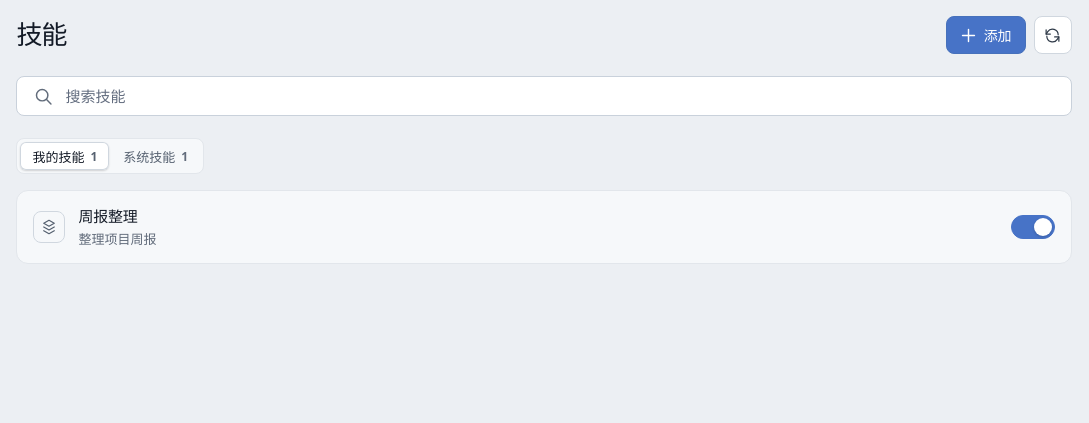
技能管理页 › 搜索框可清空关键词，并保留系统分类且不打开详情
expect the text "周报整理" is shown: met, box [78,206,138,226]
Click the tab "系统技能 1" at (156, 156), box [111,142,200,170]
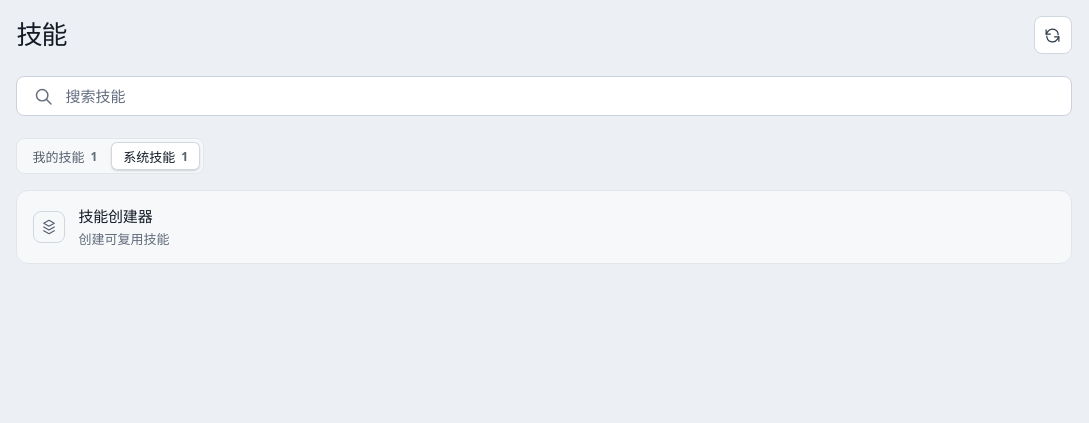
Type "无匹配" into the search field labelled "搜索技能" at (542, 96), box [65,77,1019,115]
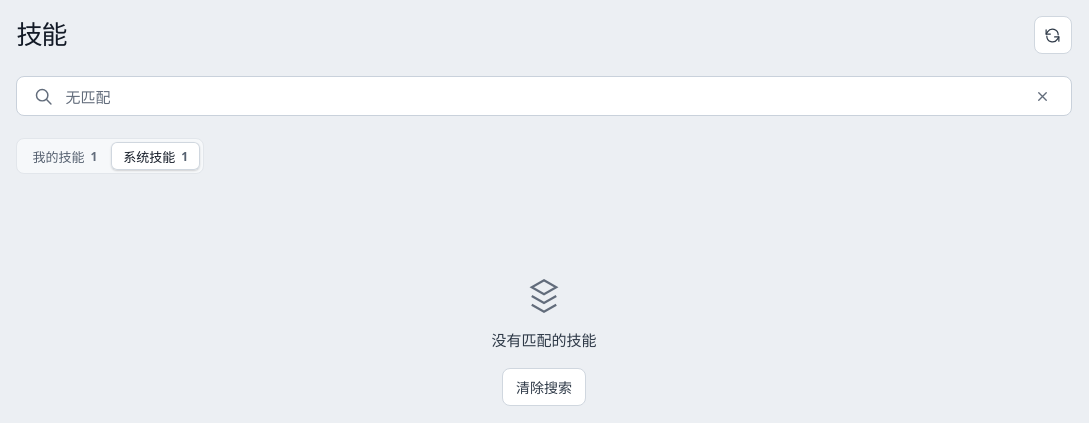
expect the text "没有匹配的技能" is shown: met, box [492,328,596,350]
Click the button named "清空关键词" at (1043, 96), box [1029,82,1057,110]
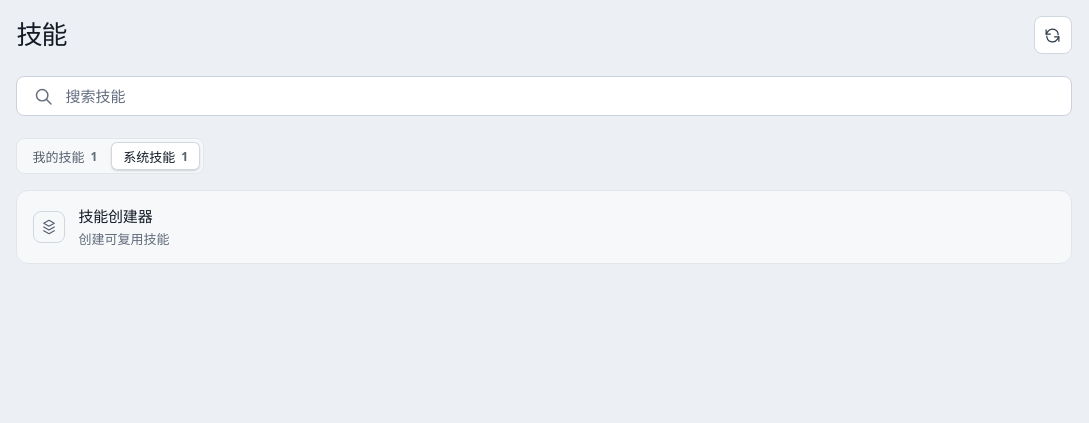
expect the search field labelled "搜索技能" is empty: met, box [65,77,1019,115]
expect the text "技能创建器" is shown: met, box [78,206,152,226]
